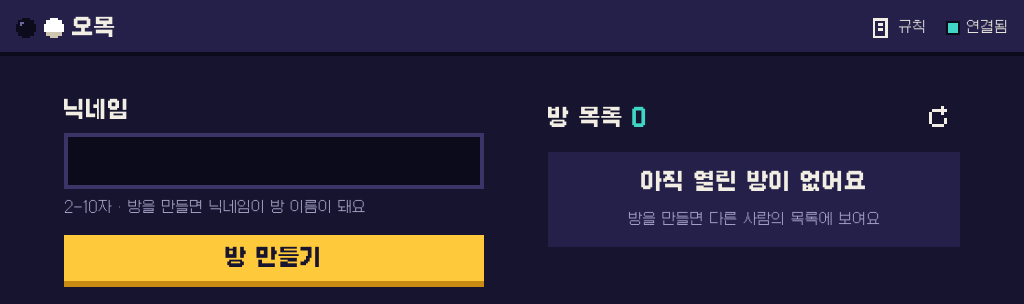
Test: HomeScreen › 새로고침 버튼을 누르면 목록을 다시 불러와요
Expected: the text "아직 열린 방이 없어요" is shown, 641,168 -> 867,197
Click the button named "방 목록 새로고침": (938, 118) 916,96 -> 960,140
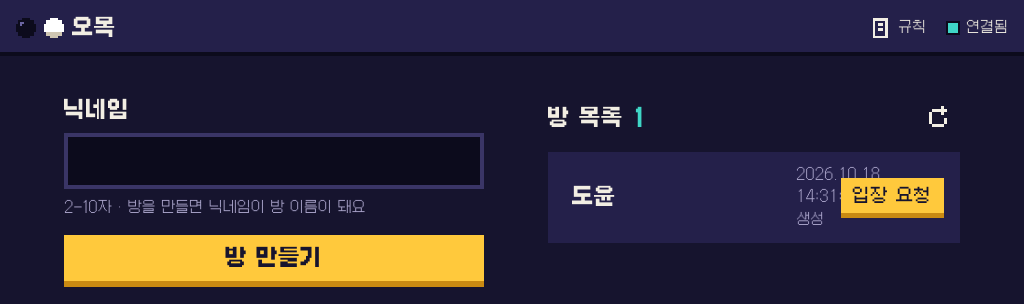
Expected: the text "도윤" is shown, 572,184 -> 616,210
